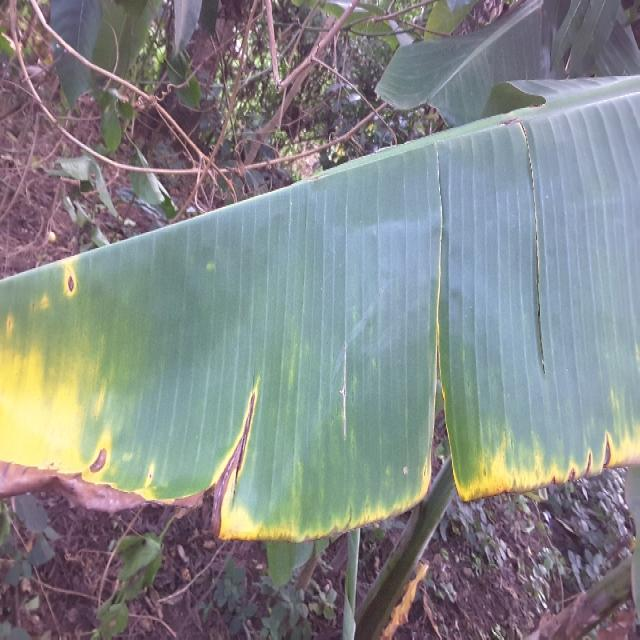Cordana: (210, 248, 640, 554), (0, 272, 214, 521), (48, 248, 106, 342), (20, 279, 61, 319), (0, 305, 35, 341)
